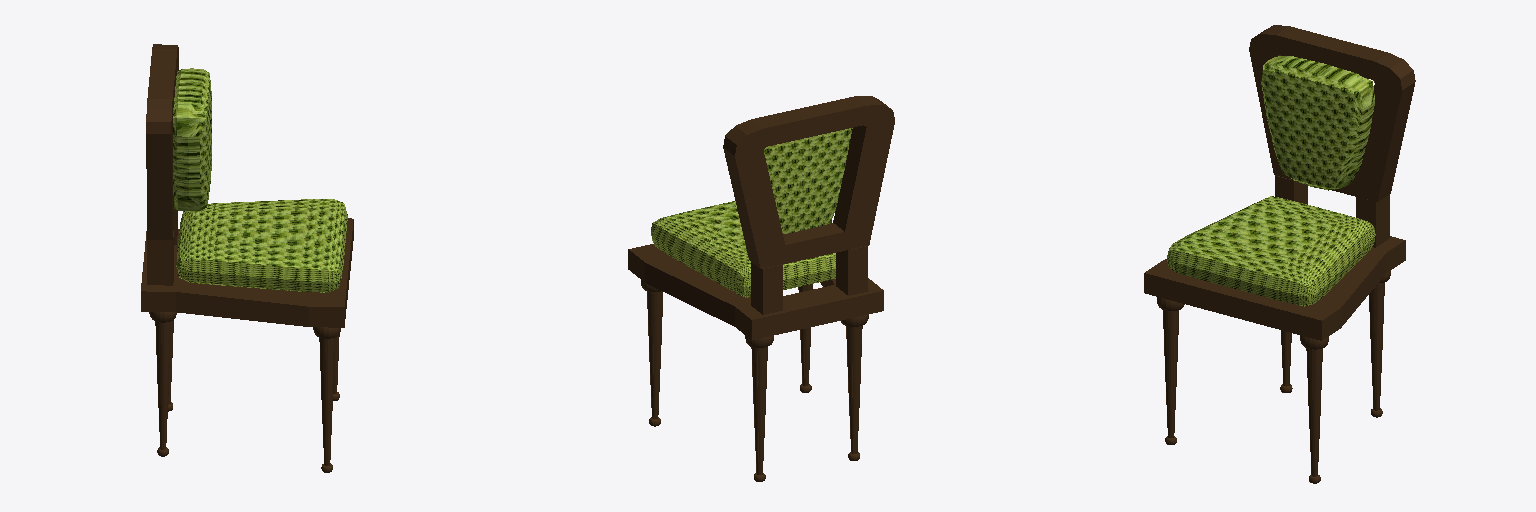
3 views of the same model, side by side, from view 1: azimuth 30°, elevation 25°; view 2: azimuth 150°, elevation 25°; view 3: azimuth 270°, elevation 25° (orthographic).
Visible parts, largest first — view 1: Cube_Cube.004; view 2: Cube_Cube.004; view 3: Cube_Cube.004.
Part boxes in pixels (left/top/right/bottom): Cube_Cube.004: left=141, top=44, right=353, bottom=472; Cube_Cube.004: left=628, top=96, right=894, bottom=481; Cube_Cube.004: left=1144, top=25, right=1415, bottom=483.
Bounding box in the file's own units: 0.1892 × 0.2731 × 0.1875.
Materials: 2 (2 with a texture image).